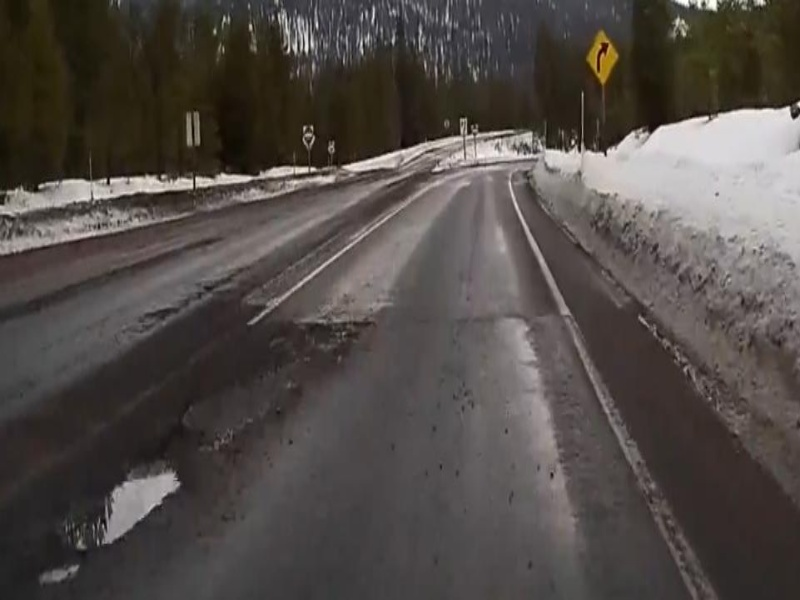pothole: (51, 451, 191, 554), (29, 556, 83, 589)
